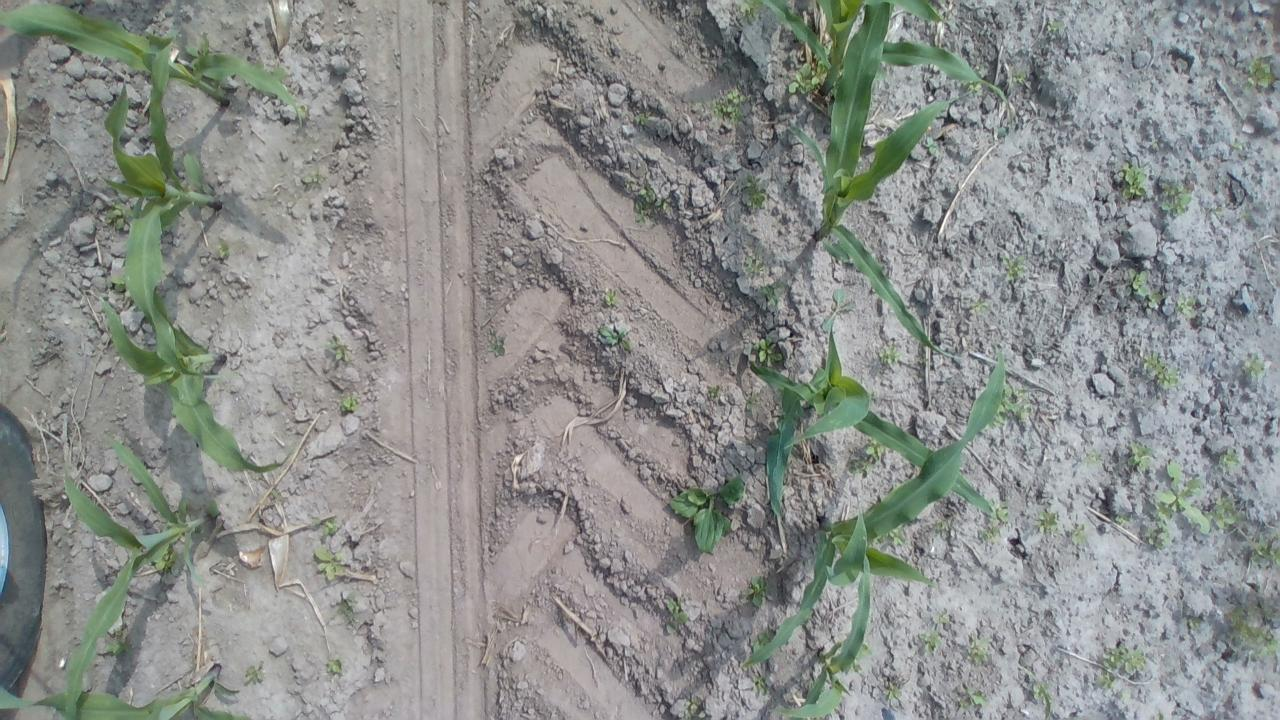Maize: (737, 335, 1006, 668), (788, 3, 964, 359), (749, 322, 995, 516), (62, 430, 225, 720), (104, 44, 235, 380), (0, 2, 304, 127), (102, 300, 293, 476), (758, 0, 1012, 127), (767, 555, 871, 720), (0, 663, 250, 720)
Weeds: (672, 473, 745, 558), (1154, 459, 1210, 535), (1226, 594, 1280, 658), (623, 178, 671, 228), (818, 286, 858, 334), (1018, 664, 1052, 720), (1204, 497, 1248, 536), (1240, 50, 1278, 95), (1142, 351, 1182, 390), (708, 87, 748, 124), (1246, 524, 1280, 567), (1004, 383, 1034, 427), (1102, 646, 1146, 674), (326, 591, 360, 627), (1118, 162, 1148, 200), (104, 195, 134, 232), (1162, 180, 1190, 219), (788, 59, 819, 94), (664, 598, 691, 638), (313, 546, 344, 580), (740, 172, 767, 211), (599, 322, 631, 352), (1126, 439, 1154, 472), (966, 628, 990, 666), (756, 280, 788, 308), (740, 576, 769, 606), (1242, 351, 1269, 383), (1143, 520, 1172, 549), (1002, 252, 1030, 282), (1180, 601, 1207, 632), (756, 336, 781, 368), (1216, 442, 1242, 472), (678, 693, 706, 720), (957, 684, 987, 709), (736, 0, 766, 23), (1034, 509, 1060, 535), (919, 628, 942, 656), (1128, 268, 1150, 296), (1176, 292, 1198, 320), (876, 344, 902, 367), (183, 34, 210, 56), (326, 335, 348, 362), (486, 330, 506, 358), (989, 498, 1010, 524), (742, 254, 766, 276), (846, 456, 875, 474), (1082, 447, 1108, 466), (243, 662, 265, 684), (300, 169, 326, 187), (105, 640, 132, 657), (1072, 522, 1089, 547), (976, 526, 1002, 542), (753, 673, 768, 700), (1148, 285, 1164, 310), (752, 628, 771, 649), (154, 554, 178, 570), (884, 684, 904, 702), (214, 236, 230, 258), (1096, 674, 1118, 690), (922, 136, 938, 158), (932, 608, 951, 626), (326, 658, 345, 676), (970, 298, 991, 314), (866, 440, 886, 456), (1046, 19, 1066, 35), (341, 396, 358, 414), (603, 286, 618, 306), (889, 528, 906, 545), (322, 518, 338, 536), (1011, 70, 1027, 86), (271, 488, 286, 505), (110, 275, 124, 292), (632, 111, 649, 124), (744, 392, 756, 410), (706, 384, 720, 399), (1115, 512, 1129, 526), (296, 104, 308, 120), (988, 417, 1005, 428), (860, 644, 871, 660), (272, 66, 286, 78), (1120, 688, 1130, 703), (914, 354, 926, 366), (1153, 709, 1165, 720), (1212, 203, 1224, 214), (998, 127, 1008, 140), (1232, 141, 1245, 150), (116, 625, 125, 637), (968, 82, 981, 90), (933, 522, 943, 532), (1238, 209, 1248, 218), (311, 518, 322, 526)
